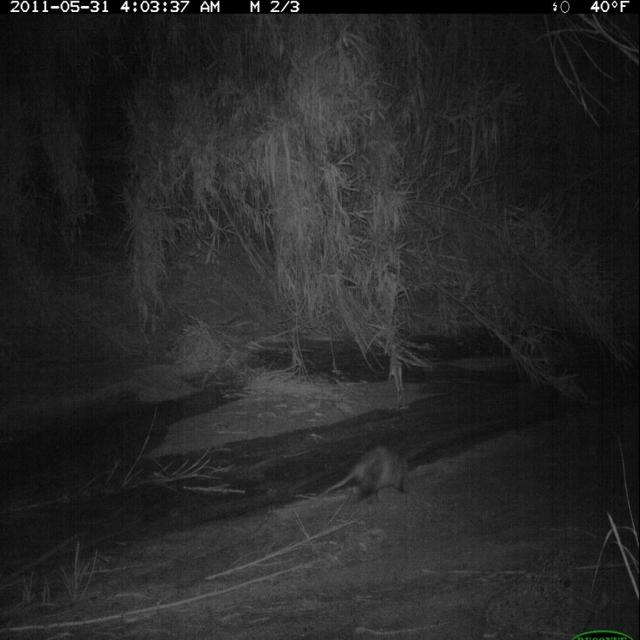opossum: (316, 441, 413, 511)
